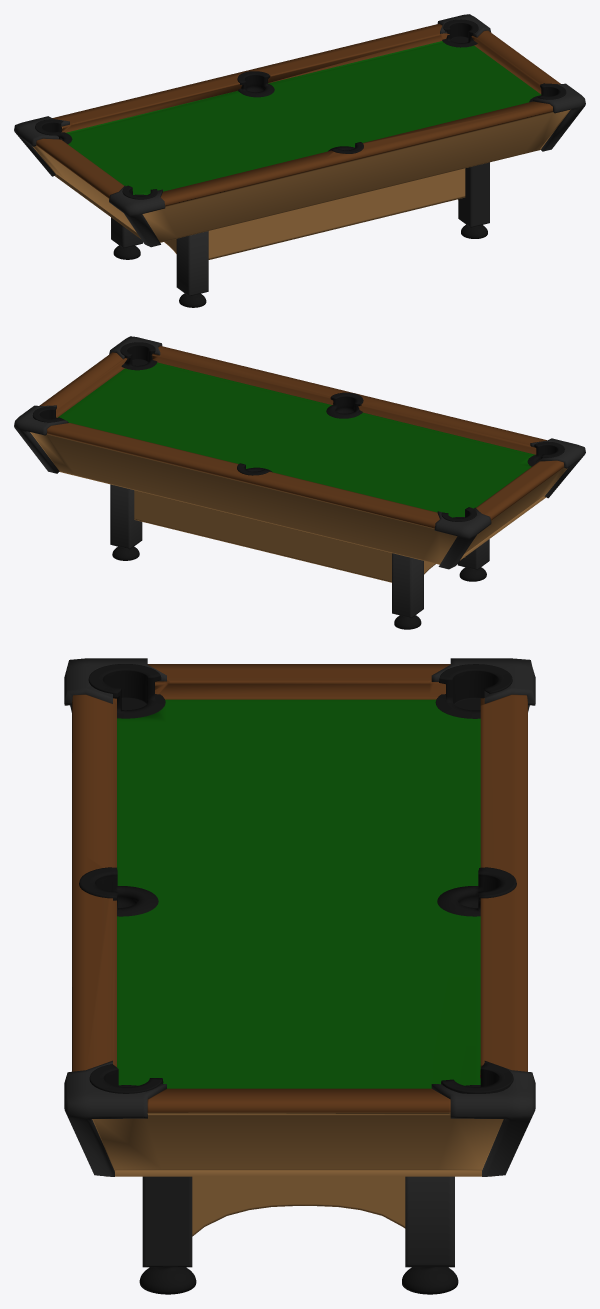
Rendered from BilliardsTable.fbx.
The picture shows the model from 3 angles, top to bottom: view 1: azimuth 30°, elevation 25°; view 2: azimuth 150°, elevation 25°; view 3: azimuth 270°, elevation 25°; orthographic projection. The views are drawn at different scales.
Visible parts, largest first — view 1: Cylinder; view 2: Cylinder; view 3: Cylinder.
Part boxes in pixels (box(x1,y1,x2,y2)): Cylinder: box(14, 14, 585, 307); Cylinder: box(14, 336, 585, 629); Cylinder: box(64, 658, 535, 1294).
Bounding box in the file's own units: 1310 × 366 × 583.
